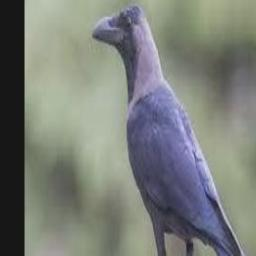Crow: (93, 3, 256, 256)
